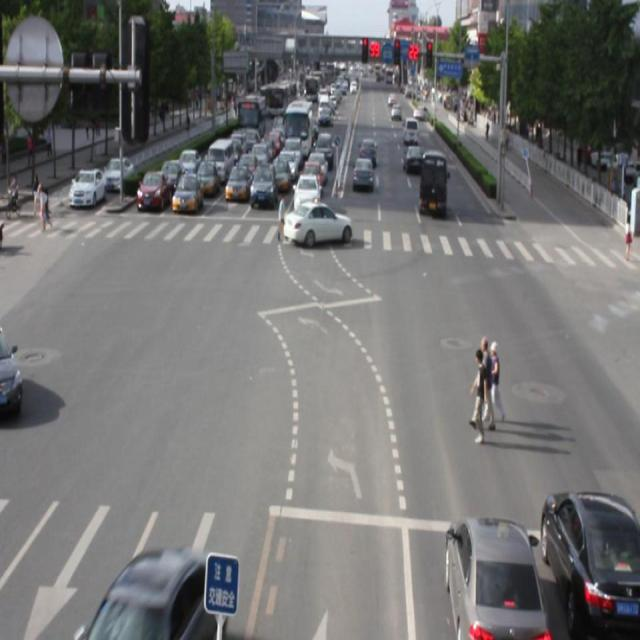car: (535, 493, 640, 640), (89, 546, 226, 640), (442, 516, 541, 640), (283, 201, 350, 245)
